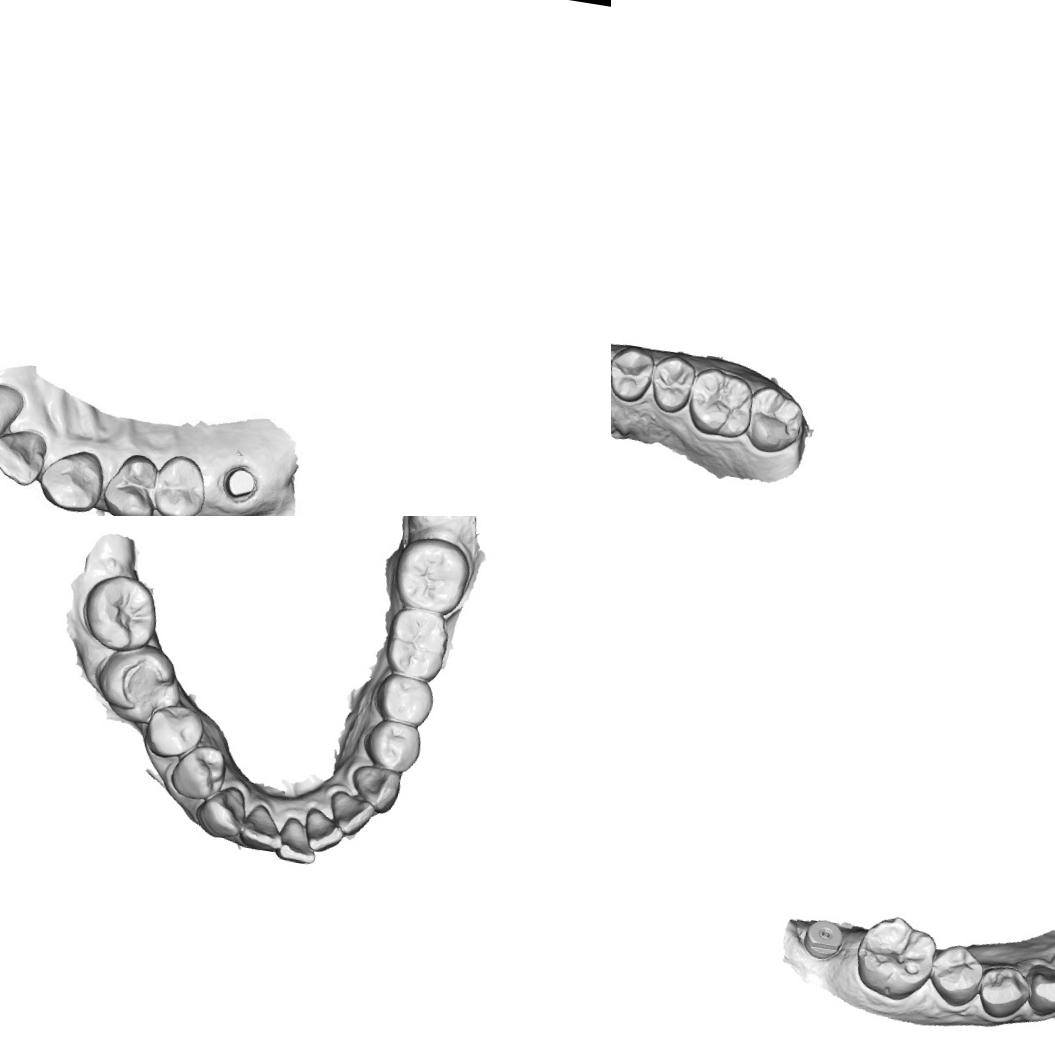abutment: (219, 460, 264, 508)
canine: (36, 443, 107, 516), (190, 780, 252, 843), (346, 761, 406, 816), (1020, 961, 1055, 1022)
implant: (800, 915, 847, 964)
incisor: (0, 425, 51, 490), (235, 800, 290, 855), (273, 813, 324, 867), (324, 789, 378, 840), (300, 802, 350, 856), (0, 374, 29, 456)
molar: (848, 908, 940, 1006), (90, 637, 182, 730), (75, 569, 163, 656), (388, 531, 476, 617), (380, 602, 453, 684), (684, 364, 759, 442), (742, 381, 810, 458)
premolar: (139, 698, 208, 765), (924, 939, 987, 1011), (98, 448, 163, 516), (369, 668, 439, 730), (166, 740, 230, 806), (148, 450, 211, 516), (358, 716, 426, 776), (974, 959, 1036, 1024), (647, 351, 699, 417), (611, 342, 656, 406)
